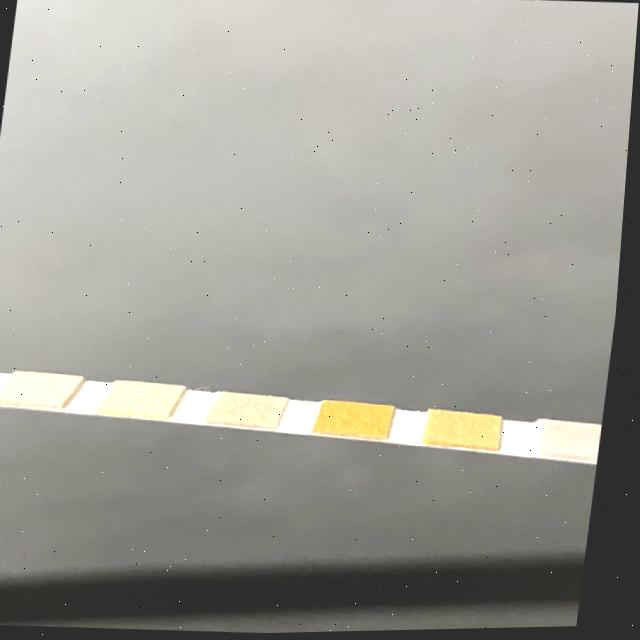Blood: (326, 407, 393, 437)
Ketone: (549, 425, 609, 459)
Protein: (116, 382, 174, 415)
SpGravity: (436, 417, 504, 446)
Urobilinogen: (15, 370, 67, 405)
pH: (221, 397, 284, 427)
